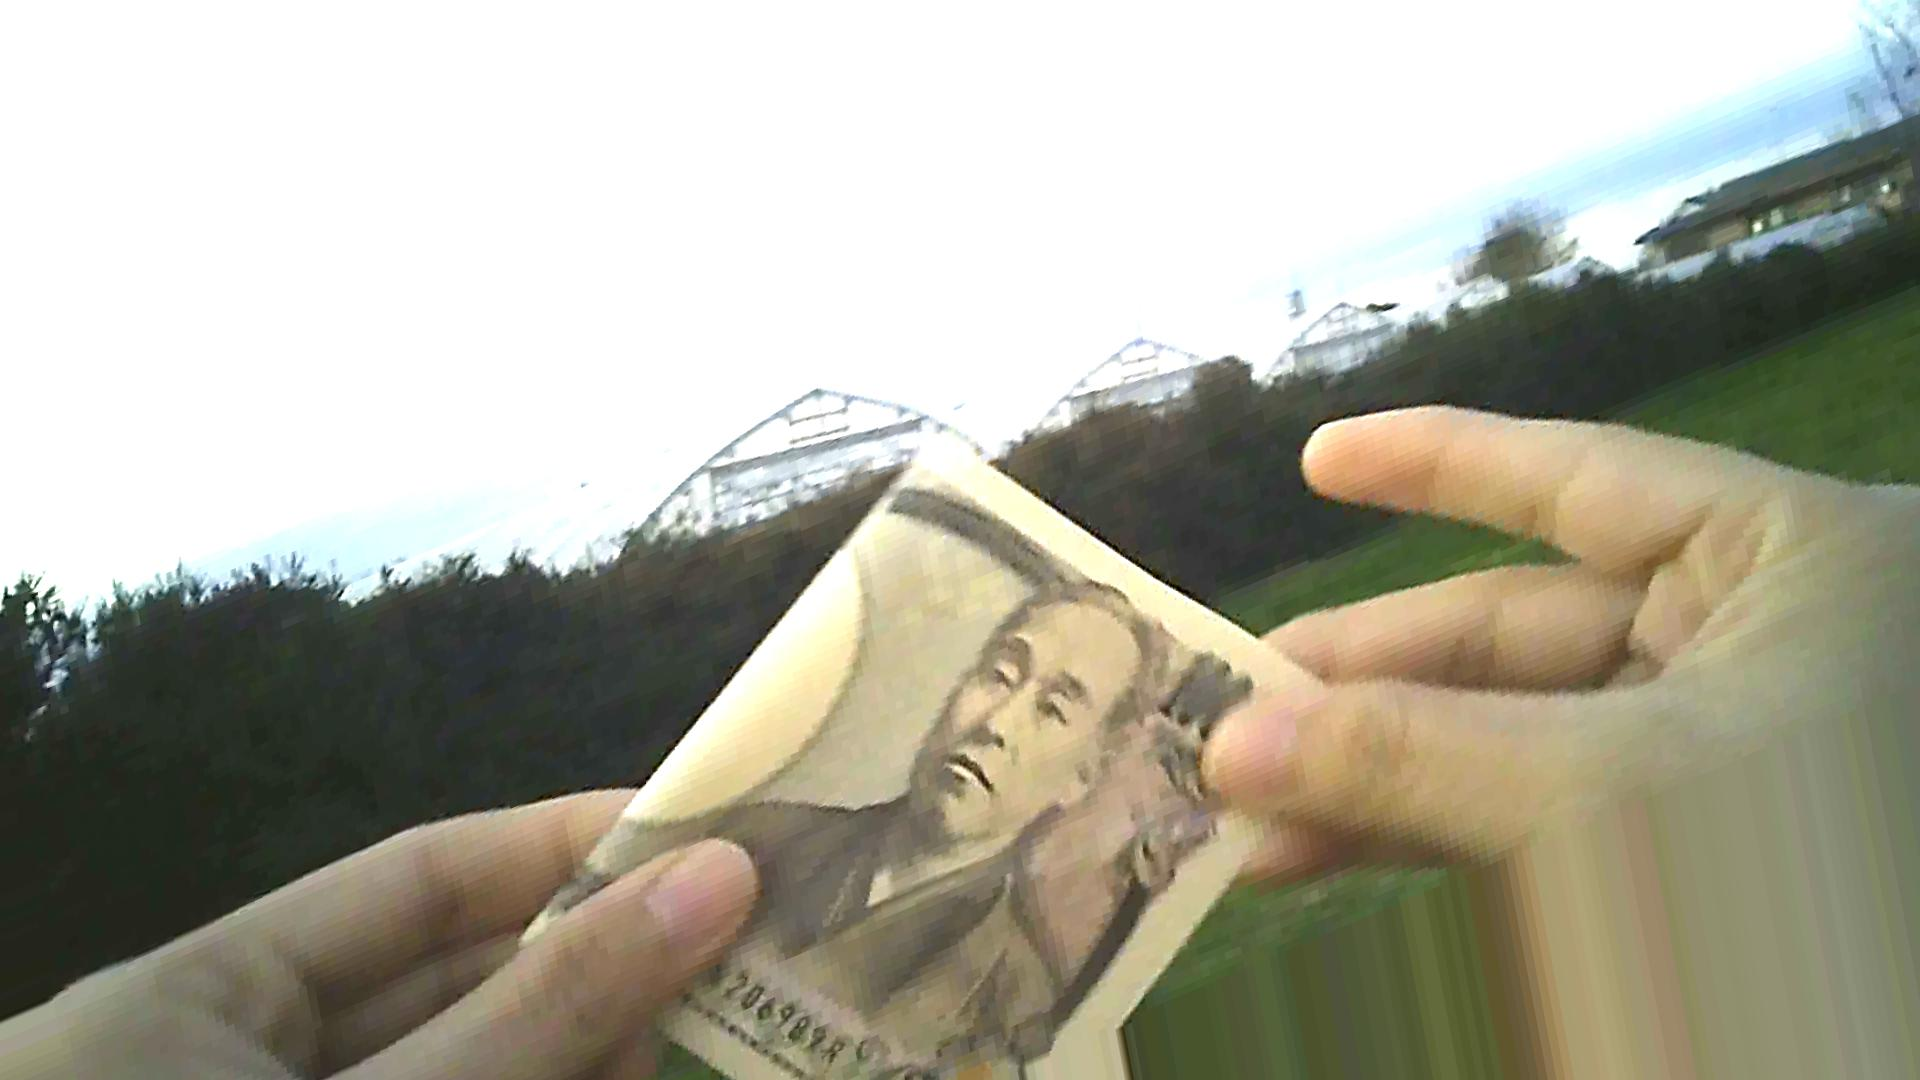10,000 Yen: (477, 464, 1327, 1069)
